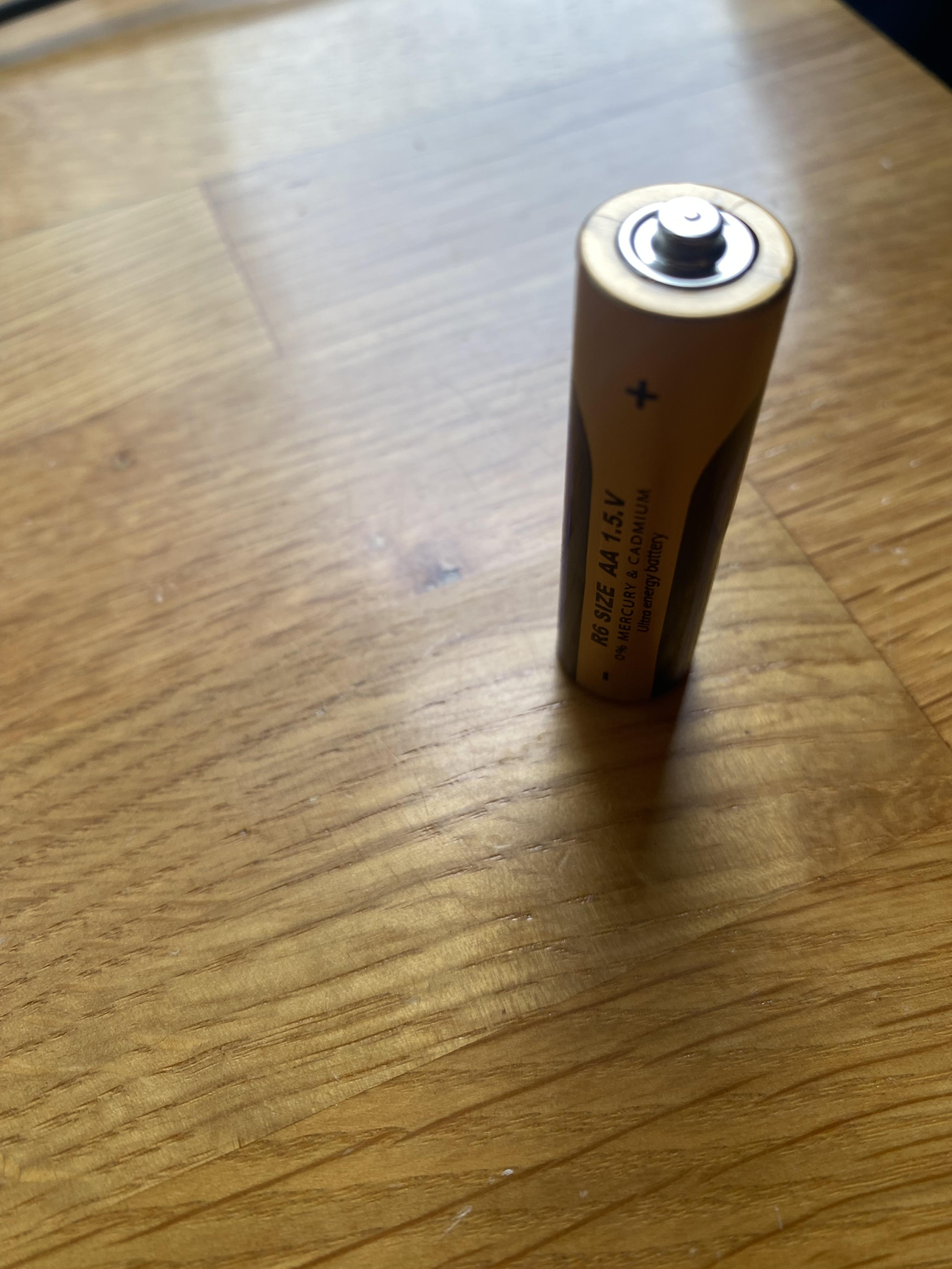AA: (554, 180, 798, 703)
